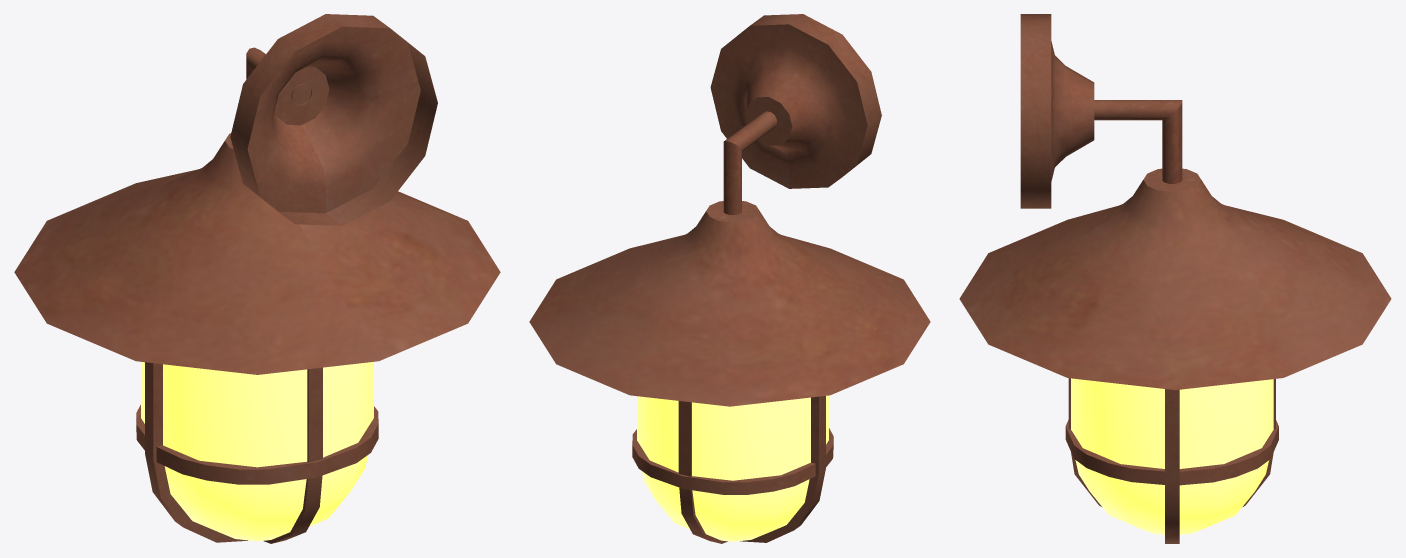
Rendered from Marine_WallMounted_wHat_FullBulb.fbx.
3 renders of one model, left to right at view 1: azimuth 30°, elevation 25°; view 2: azimuth 150°, elevation 25°; view 3: azimuth 270°, elevation 25°, orthographic. The views are drawn at different scales.
Visible parts, largest first — view 1: Marine_WallMounted_wHat_FullBulb; view 2: Marine_WallMounted_wHat_FullBulb; view 3: Marine_WallMounted_wHat_FullBulb.
Part boxes in pixels (x1=…): Marine_WallMounted_wHat_FullBulb: x1=14, y1=14, x2=500, y2=543; Marine_WallMounted_wHat_FullBulb: x1=529, y1=14, x2=930, y2=543; Marine_WallMounted_wHat_FullBulb: x1=959, y1=14, x2=1391, y2=543.
Bounding box in the file's own units: 41.99 × 54.54 × 41.99.
Materials: 2 (1 with a texture image).
